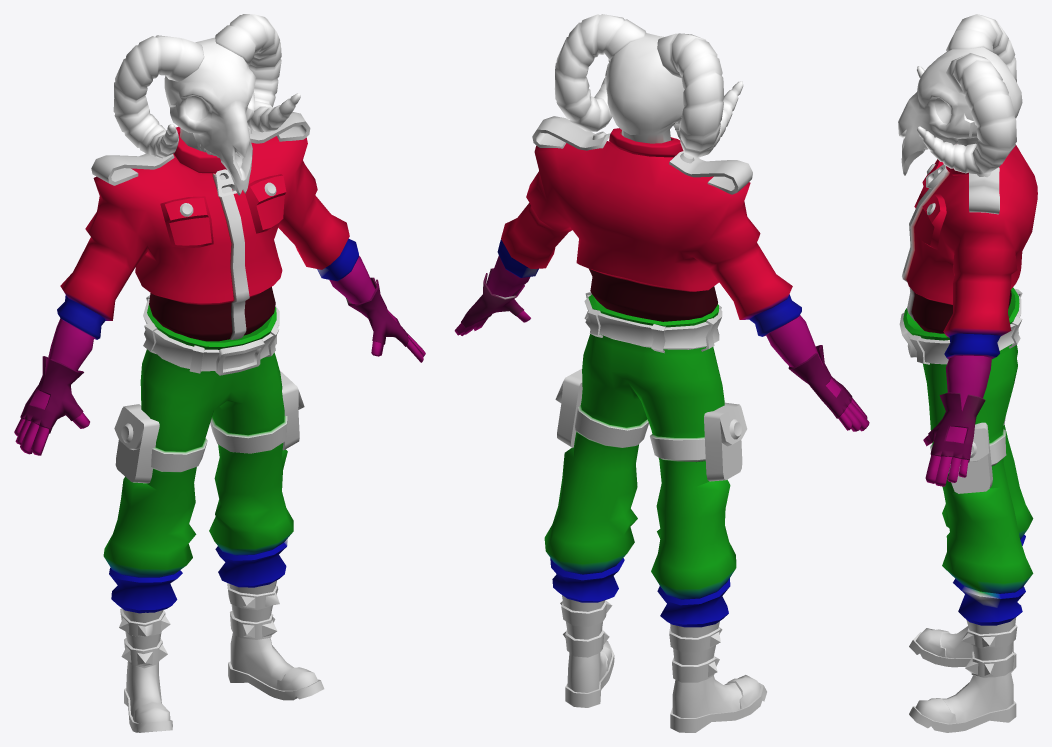
File: ram.fbx
3 views of the same model, side by side, from view 1: azimuth 30°, elevation 25°; view 2: azimuth 150°, elevation 25°; view 3: azimuth 270°, elevation 25° (orthographic). The views are drawn at different scales.
Parts seen in each view (by area): view 1: Body; view 2: Body; view 3: Body.
Boxes of the visible parts, x1,y1,x2,y2 form: Body: (14,14,425,732); Body: (454,14,869,732); Body: (898,14,1037,732).
Size of the model in its own units: 218 by 348 by 67.34.
